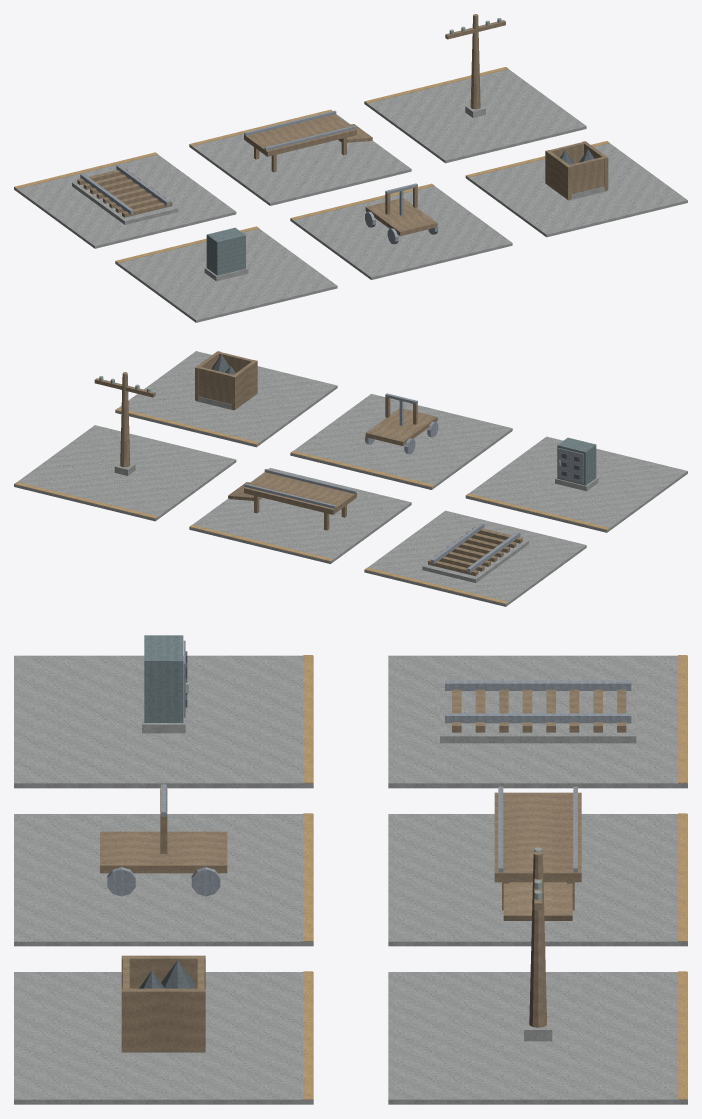
The model's file is level_blockout_kit_wld_12_p03.glb.
3 views of the same model, one above another, from view 1: azimuth 30°, elevation 25°; view 2: azimuth 150°, elevation 25°; view 3: azimuth 270°, elevation 25° (orthographic). The views are drawn at different scales.
Visible parts, largest first — view 1: level_blockout_kit_wld_12_p03; view 2: level_blockout_kit_wld_12_p03; view 3: level_blockout_kit_wld_12_p03.
Part boxes in pixels (x1=…): level_blockout_kit_wld_12_p03: x1=14, y1=14, x2=687, y2=322; level_blockout_kit_wld_12_p03: x1=14, y1=351, x2=687, y2=606; level_blockout_kit_wld_12_p03: x1=14, y1=635, x2=687, y2=1104.
Bounding box in the file's own units: 19.65 × 3.87 × 12.6.
Materials: 8 (8 with a texture image).
